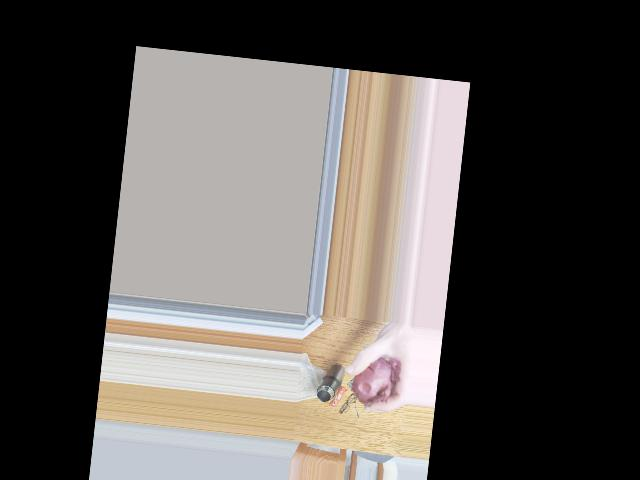onion: (356, 351, 399, 414)
